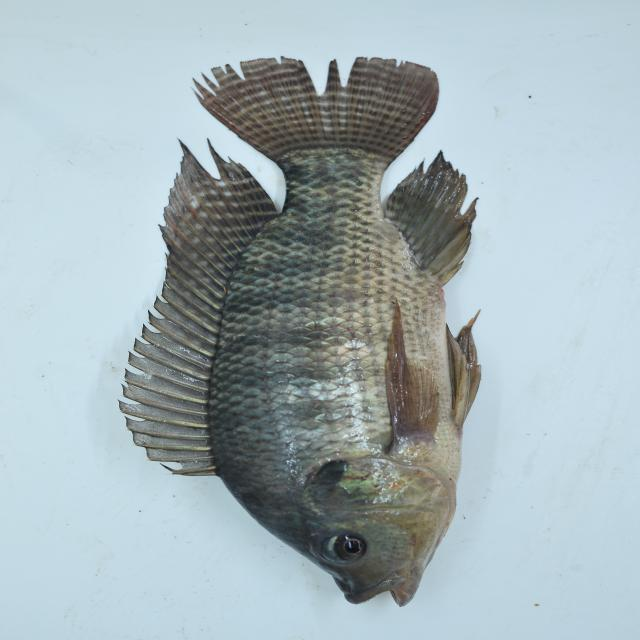Healthy Fish: (120, 56, 497, 607)
